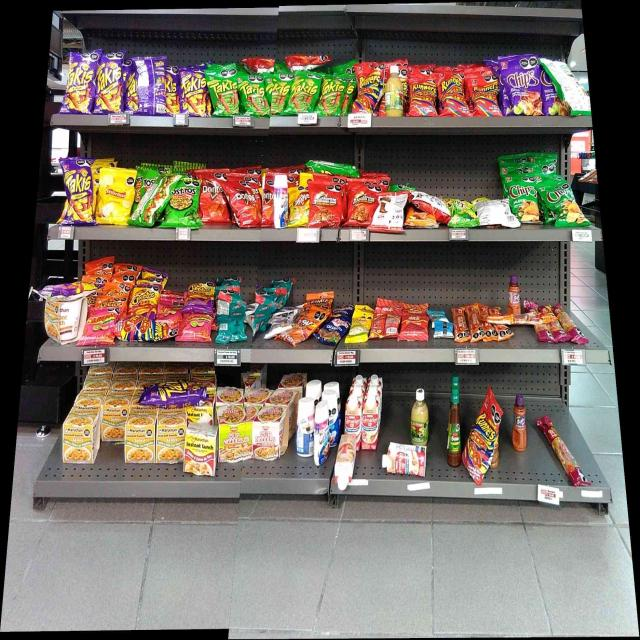bitzAlmendras: (435, 319, 452, 337)
bitzEnchilado90: (373, 308, 397, 338), (401, 313, 427, 340)
bitzEnchilado95: (485, 314, 555, 324), (468, 306, 481, 342), (454, 309, 466, 341)
bitzHabanero: (546, 421, 581, 481), (538, 326, 588, 343)
bokadosCacahuates: (321, 317, 346, 343)
cheetosFlaminHot: (187, 282, 214, 312), (132, 284, 157, 315)
chipsFuego: (505, 56, 541, 116)
chipsJalapeno: (547, 184, 579, 224), (511, 177, 536, 223)
chipsPapatinas: (452, 203, 476, 227)
churrumais: (86, 311, 113, 343), (181, 314, 211, 341)
delPrimoSalsa: (410, 388, 429, 444), (384, 66, 404, 116)
doritosNacho: (200, 170, 227, 222), (228, 181, 258, 226)
fritosLimon: (290, 187, 308, 226)
leoCacahuates: (272, 314, 291, 332)
leoMix: (293, 308, 312, 342), (310, 292, 332, 306)
maruchanPollo: (64, 406, 99, 463), (126, 408, 155, 462), (157, 408, 183, 463), (45, 302, 81, 341)
maruchanRes: (185, 422, 214, 476)
nestleCarnation: (382, 446, 427, 476), (362, 395, 378, 451), (345, 396, 361, 433)
nestleLechera: (314, 401, 330, 465), (296, 399, 312, 457), (274, 175, 288, 228)
nissinCamaron: (217, 407, 246, 460)
nissinRes: (255, 406, 286, 459)
productoAtras: (136, 57, 165, 115), (555, 62, 587, 114), (137, 176, 167, 227), (218, 297, 244, 341), (376, 194, 404, 232), (335, 436, 356, 486), (479, 201, 509, 226), (415, 191, 446, 213)
rancheritos: (311, 182, 340, 226), (348, 184, 374, 224)
runners: (469, 401, 497, 481), (438, 72, 465, 116), (118, 317, 169, 339), (470, 77, 498, 116), (355, 70, 380, 113), (410, 78, 436, 116)
sabritasOriginal: (99, 169, 131, 223)
salsaBufalo: (446, 386, 462, 467)
semillasCalabaza: (351, 313, 368, 342)
tajinDulce: (512, 393, 528, 452), (507, 275, 521, 313)
takisFuego: (64, 159, 93, 224), (66, 52, 94, 114), (97, 52, 122, 115), (145, 379, 205, 404), (181, 67, 206, 116)
takisOriginal: (210, 67, 238, 116), (241, 74, 267, 117), (292, 76, 315, 114), (320, 78, 342, 115), (270, 75, 288, 115)
tostitos: (170, 180, 197, 228)
